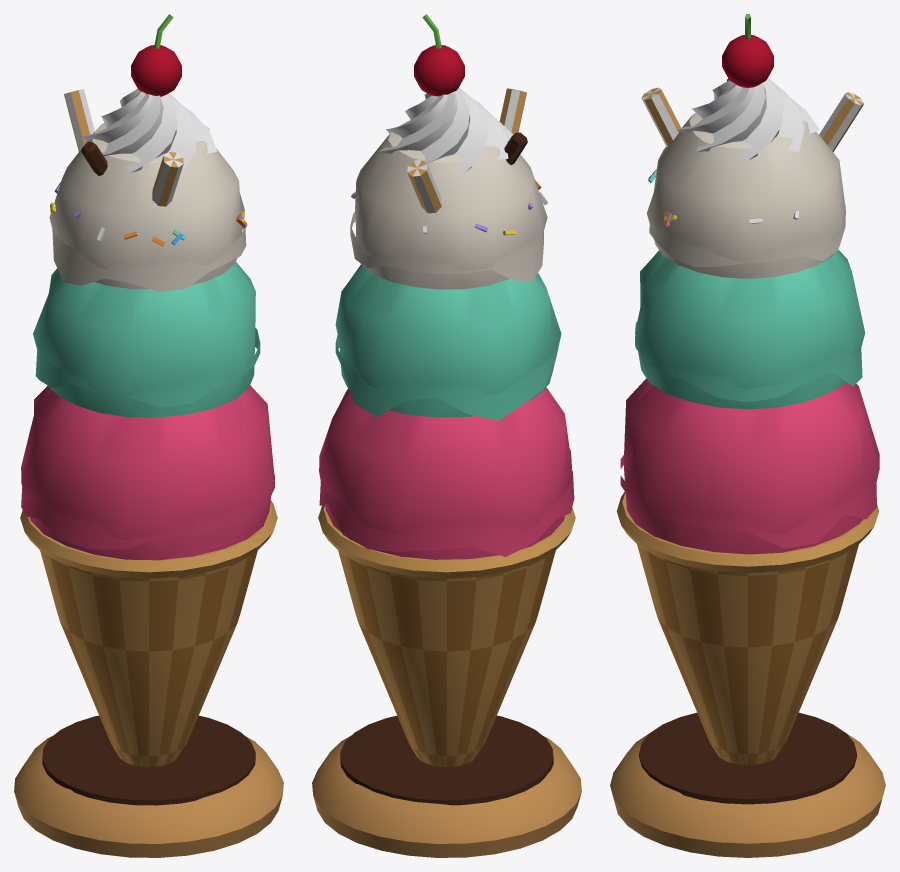
The model's file is ice_cream_tower.glb.
3 views of the same model, side by side, from view 1: azimuth 30°, elevation 25°; view 2: azimuth 150°, elevation 25°; view 3: azimuth 270°, elevation 25° (orthographic).
Visible parts, largest first — view 1: ice_cream_tower; view 2: ice_cream_tower; view 3: ice_cream_tower.
Boxes of the visible parts, box(x1,y1,x2,y2) form: ice_cream_tower: box(14, 14, 283, 857); ice_cream_tower: box(312, 14, 581, 857); ice_cream_tower: box(610, 14, 885, 857).
Bounding box in the file's own units: 6.2 × 19.79 × 6.2.
